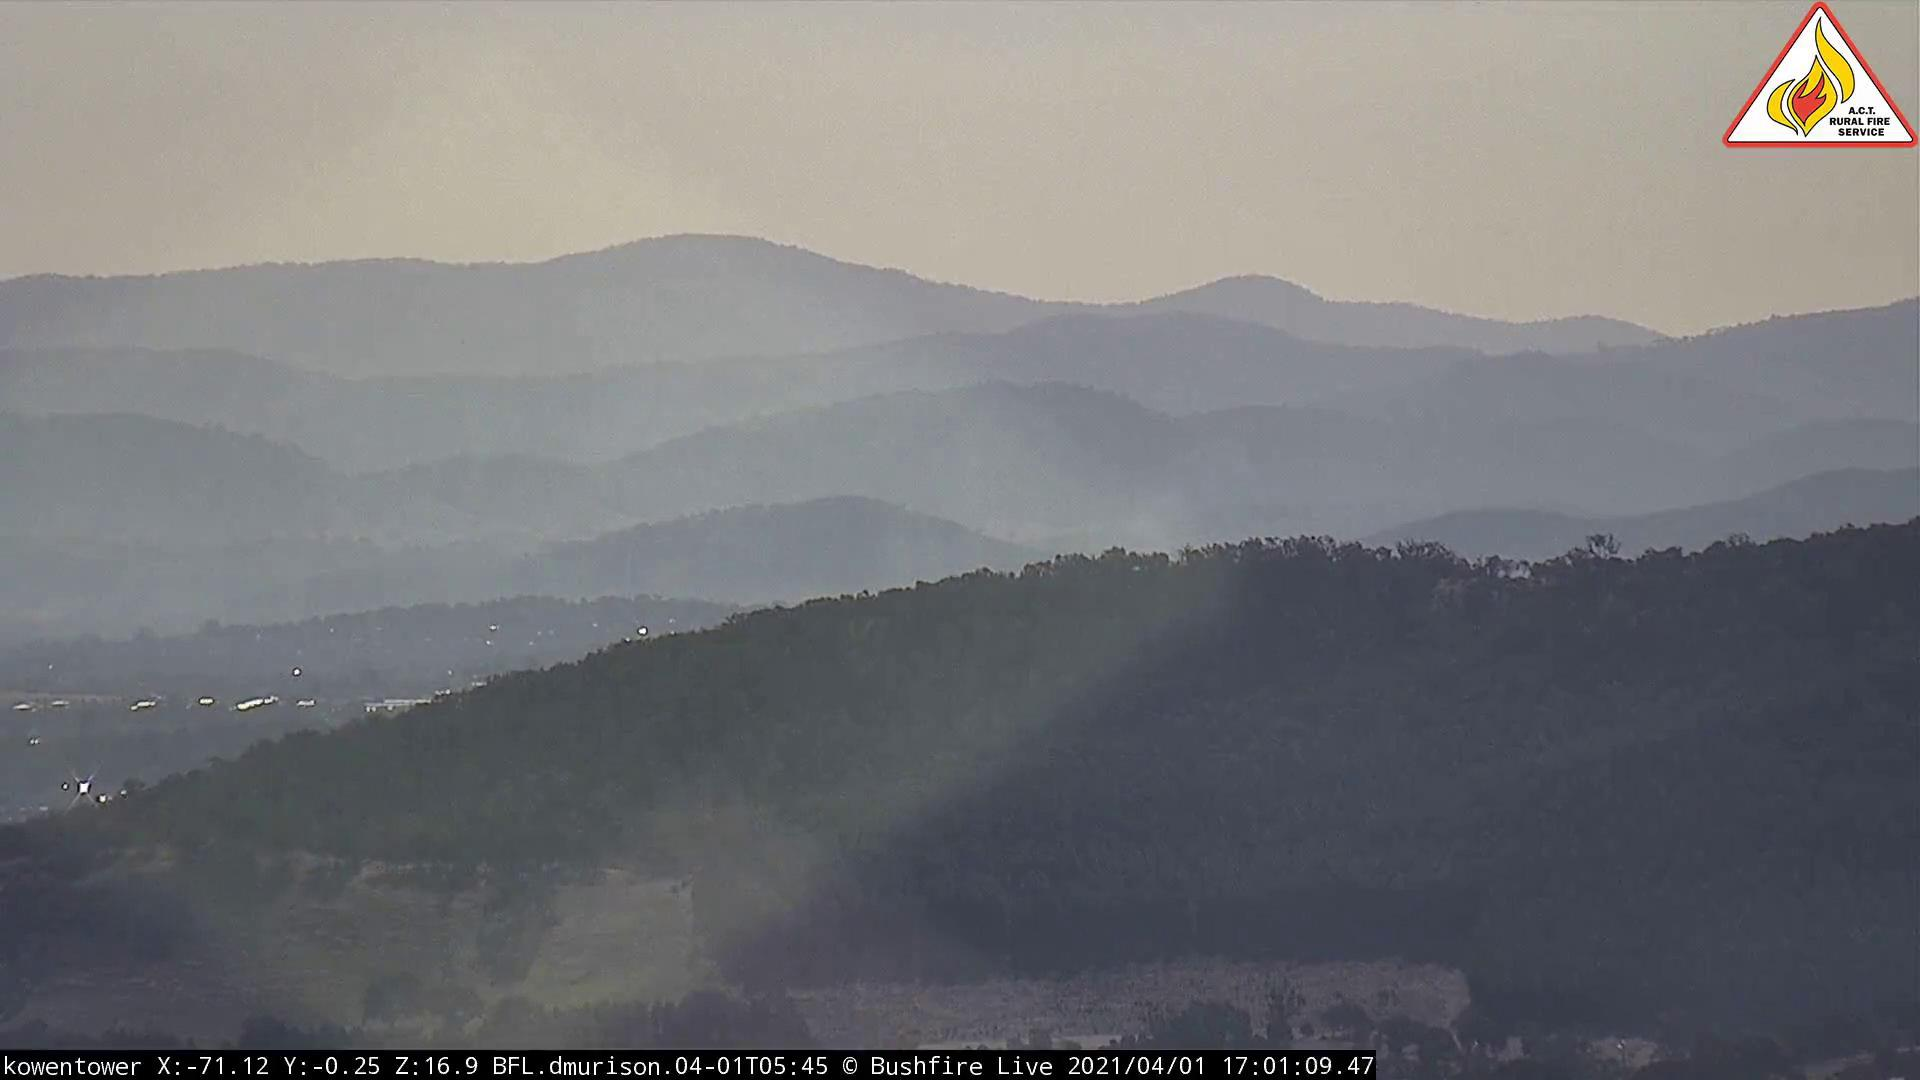Smoke: (1036, 433, 1287, 556)
